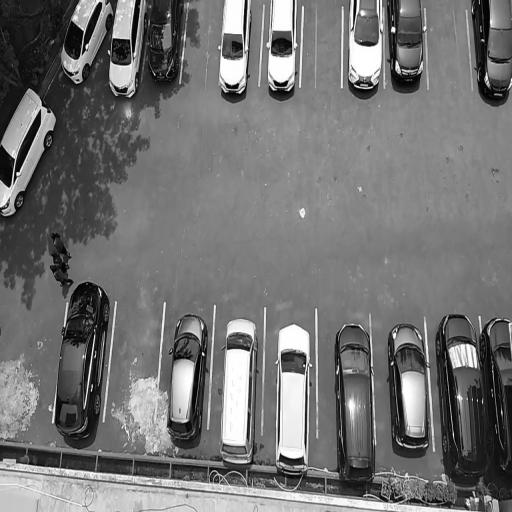Car: (435, 306, 490, 490), (0, 84, 59, 237), (52, 273, 106, 440), (328, 316, 376, 487), (384, 317, 434, 459), (217, 314, 262, 469), (271, 319, 314, 477), (166, 307, 211, 451), (484, 310, 512, 491), (58, 0, 111, 94), (344, 0, 384, 107), (387, 0, 426, 100), (266, 0, 300, 111), (106, 0, 143, 100), (475, 0, 512, 100), (144, 0, 182, 89), (218, 0, 251, 100)
Space Available: (116, 287, 153, 444), (304, 0, 341, 100), (429, 0, 465, 92), (188, 0, 218, 98)
